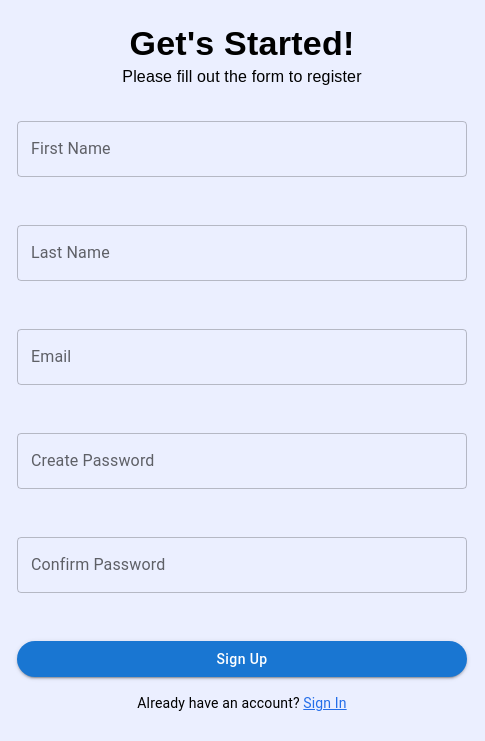
Test: SignUp › shows validation error when required fields are not entered
The width and height of the screenshot is (485, 741).
Click the button "Sign Up" at [242, 659], box [17,641,467,677]
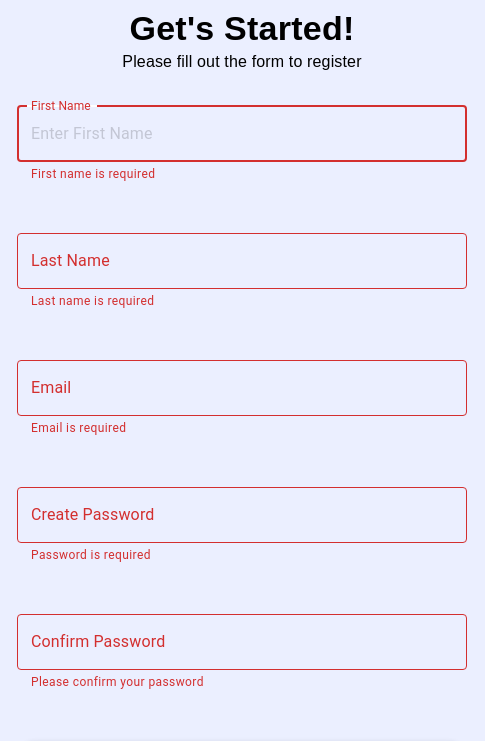
Now the text "First name is required" is shown, box [31,167,155,181]
Now the text "Last name is required" is shown, box [31,294,154,308]
Now the text "Email is required" is shown, box [31,421,126,435]
